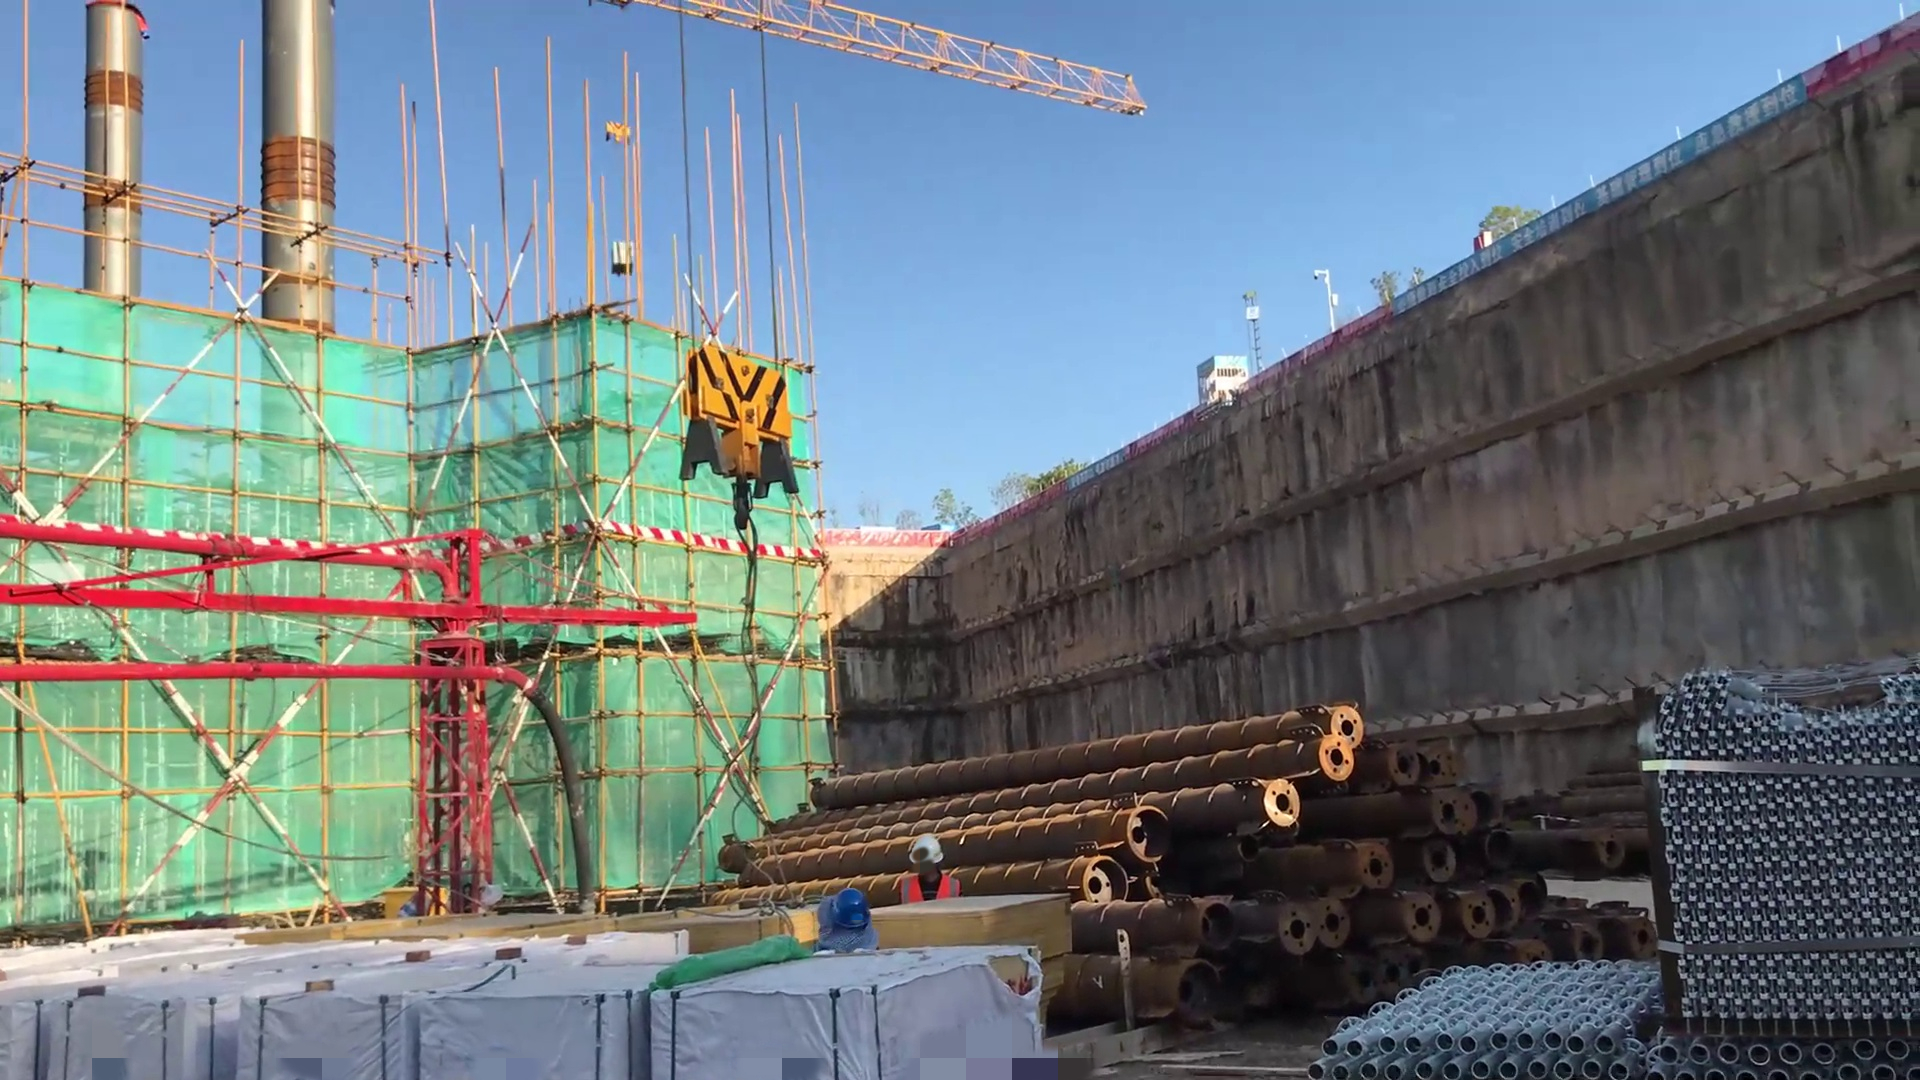board: (863, 887, 1080, 963)
ebox: (383, 886, 451, 922)
helmet: (909, 833, 950, 865)
hook: (680, 339, 809, 530), (609, 114, 637, 163)
person: (897, 827, 969, 913)
scaffold: (1631, 655, 1920, 1060), (1306, 944, 1658, 1080)
slogan: (1400, 69, 1830, 319), (1059, 455, 1122, 489)
vest: (898, 862, 965, 921)
